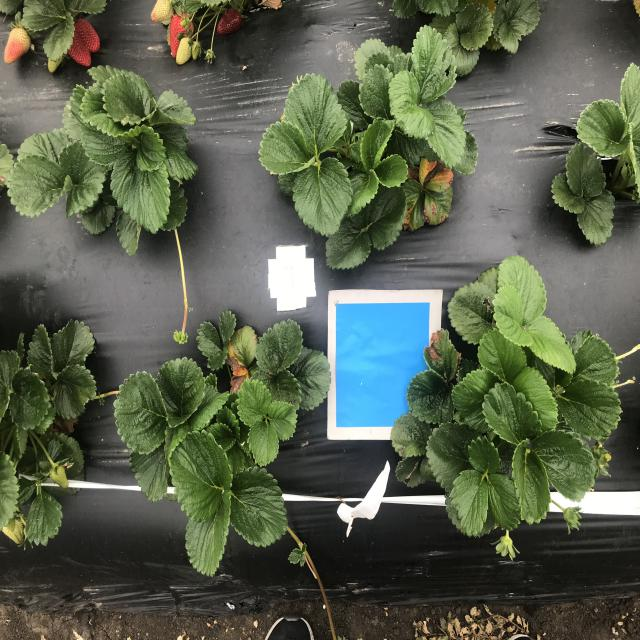Green Strawberry: (0, 515, 28, 546), (150, 0, 174, 24), (176, 36, 192, 66), (50, 467, 70, 490), (48, 58, 60, 73), (192, 44, 201, 60)
Red Strawberry: (65, 14, 101, 66), (3, 23, 32, 66), (169, 11, 195, 58), (217, 6, 242, 38)
